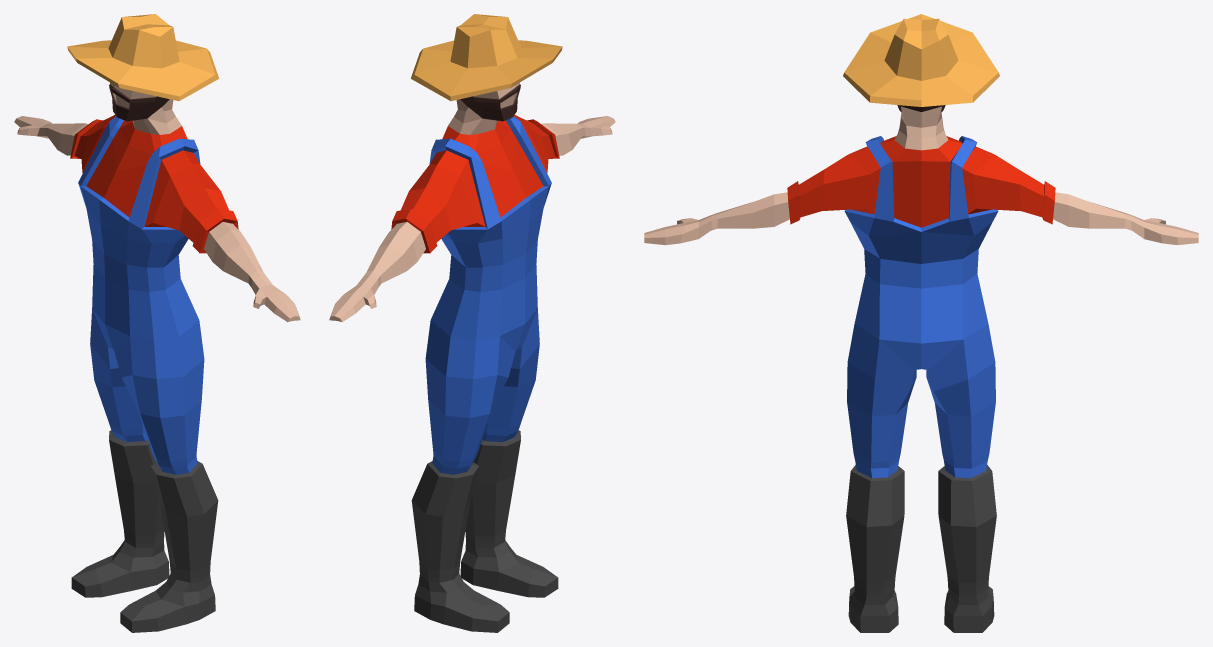
The model's file is Farmer.fbx.
The picture shows the model from 3 angles, left to right: view 1: azimuth 30°, elevation 25°; view 2: azimuth 150°, elevation 25°; view 3: azimuth 270°, elevation 25°; orthographic projection.
Parts seen in each view (by area): view 1: Cube.009; view 2: Cube.009; view 3: Cube.009.
Part boxes in pixels (x1,y1,x2,y2): Cube.009: (14,14,300,632); Cube.009: (329,14,615,632); Cube.009: (644,14,1198,632).
Size of the model in its own units: 48.2 by 199 by 170.
